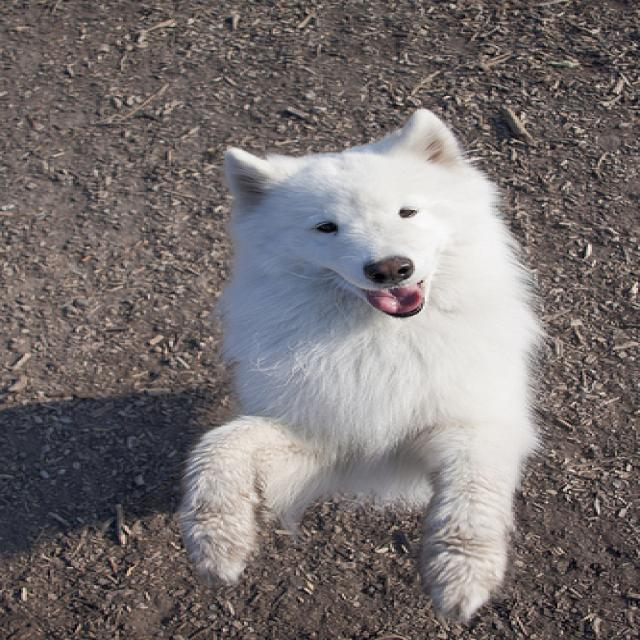dog-samoyed: (160, 100, 552, 637)
